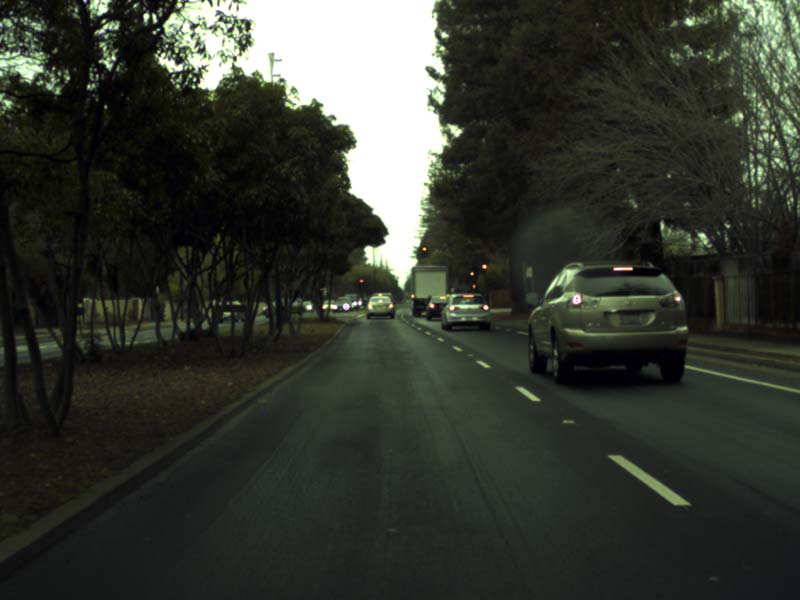Red: (421, 245, 427, 258), (470, 270, 475, 283), (481, 262, 486, 273), (359, 278, 364, 287)
